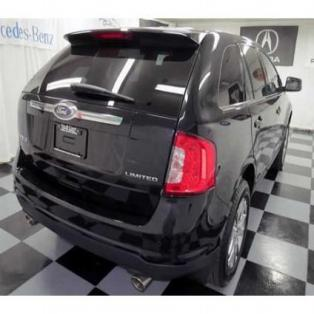Auto: (12, 27, 303, 293)
